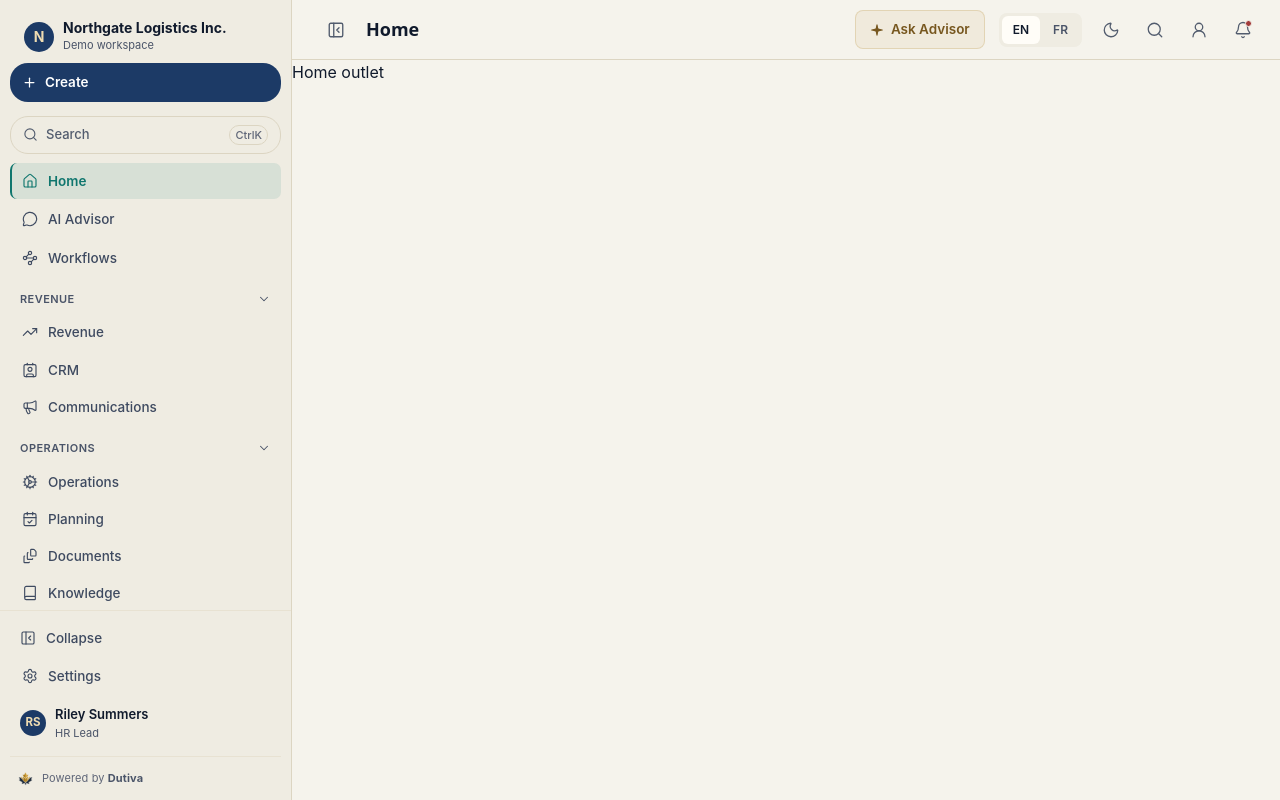
Test: AppShell › persists sidebar expanded preference on desktop
Expected: the button "Create" is shown, [10,63,281,102]
Step 1. Click the button "Collapse" → (74, 638), box [10,620,281,656]
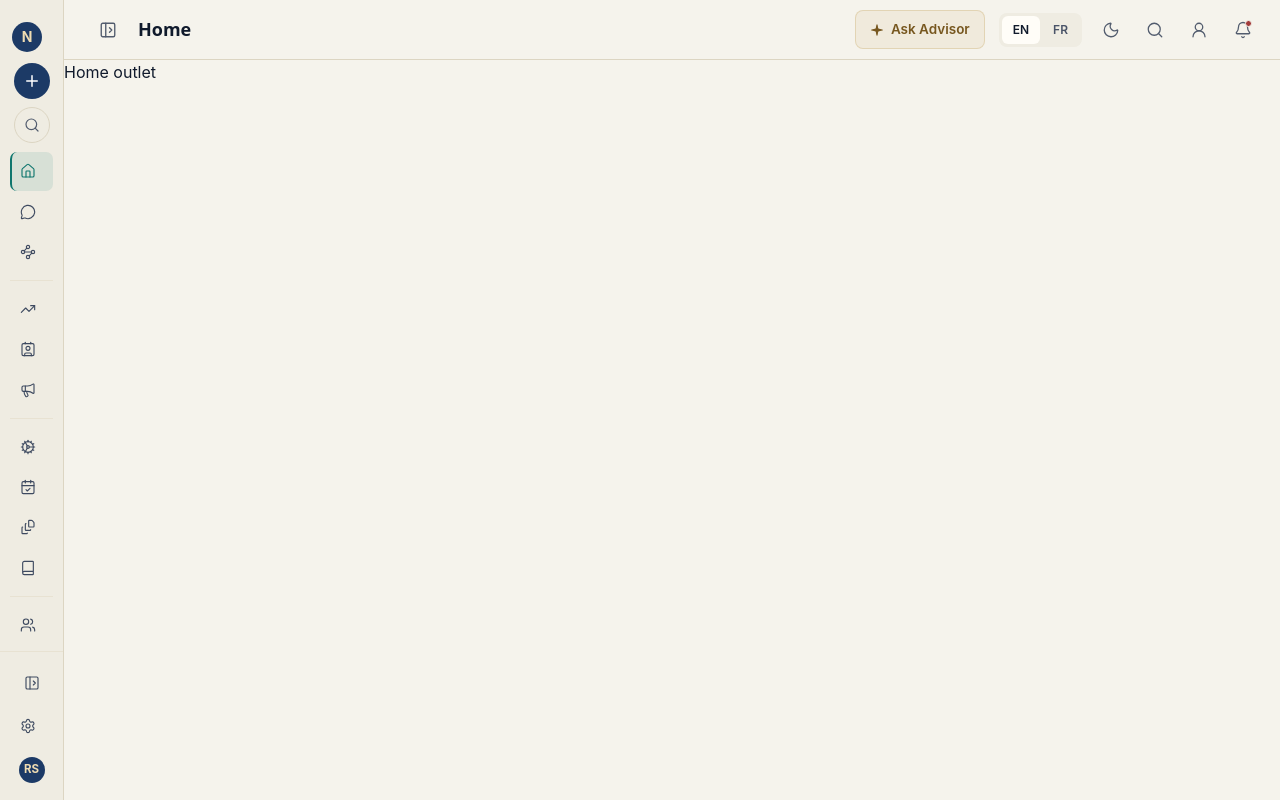
Expected: the button named "Create" no longer shows "Create", [14,63,50,99]
